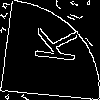K: (24, 25, 78, 64)
